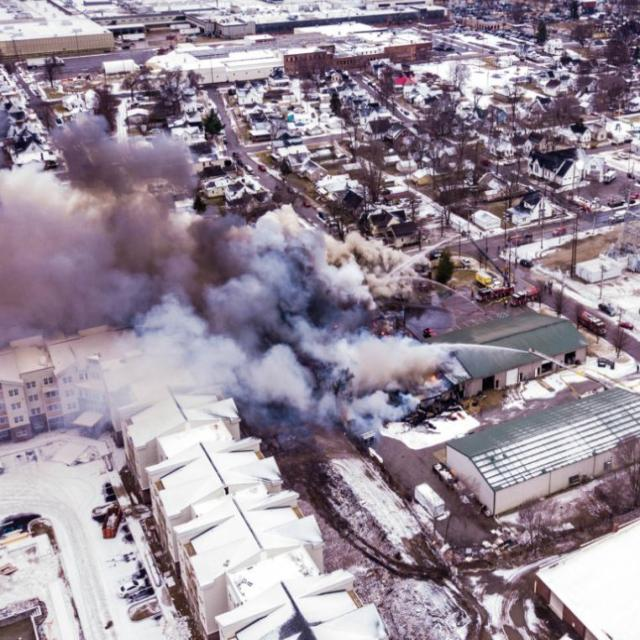Fire: (106, 60, 139, 76)
Smoke: (13, 168, 286, 420)
